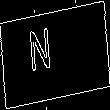N_S: (42, 27, 68, 83)
